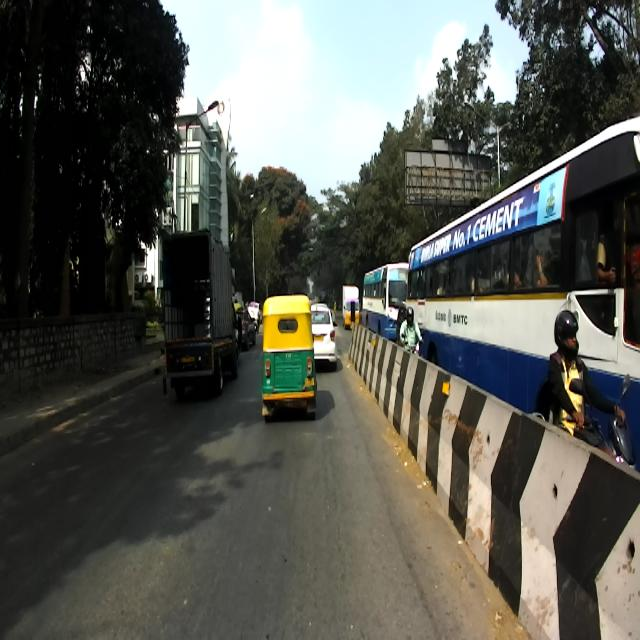auto ahead at: (262, 297, 319, 423)
truck ahead at: (160, 228, 245, 407)
